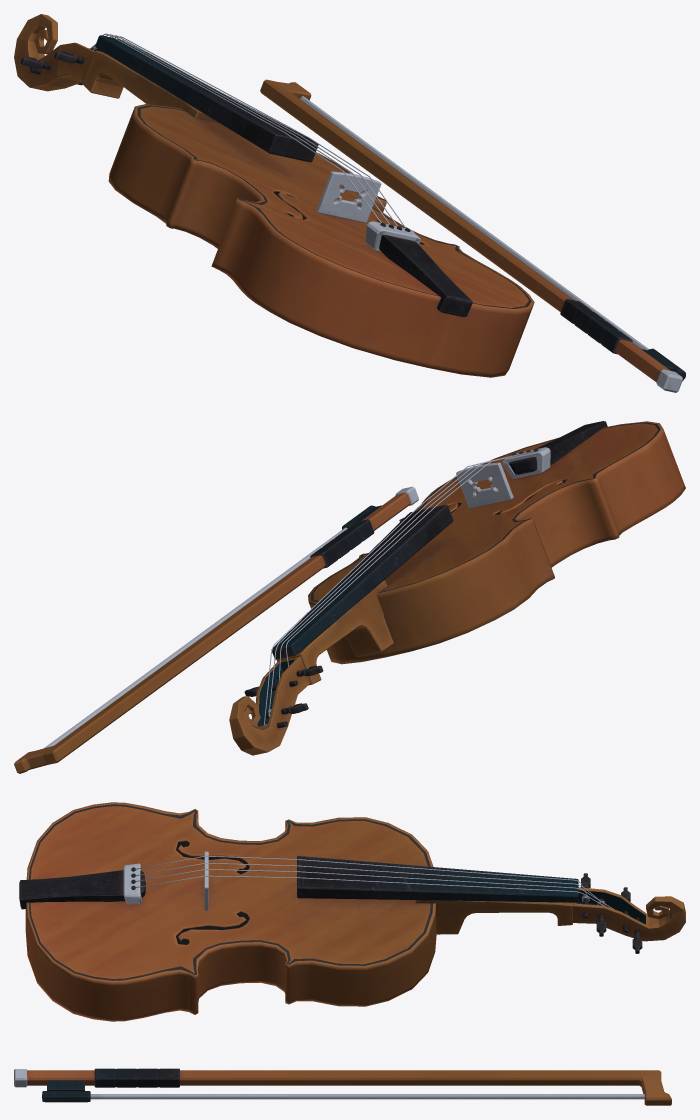
Rendered from Violin_Simple_-_Stylized.glb.
The picture shows the model from 3 angles, top to bottom: view 1: azimuth 30°, elevation 25°; view 2: azimuth 150°, elevation 25°; view 3: azimuth 270°, elevation 25°; orthographic projection. The views are drawn at different scales.
Visible parts, largest first — view 1: Violin_Vio1_0, Violin_Outfit_0, Violin Bow_Vio1_0, Violin_GP 2_0, Violin Bow_GP 2_0, Violin Bow_Outfit_0; view 2: Violin_Vio1_0, Violin_Outfit_0, Violin Bow_Vio1_0, Violin_GP 2_0, Violin Bow_GP 2_0, Violin Bow_Outfit_0; view 3: Violin_Vio1_0, Violin_Outfit_0, Violin Bow_Vio1_0, Violin_GP 2_0, Violin Bow_GP 2_0, Violin Bow_Outfit_0.
Part boxes in pixels (x1,y1,x2,y2): Violin_Vio1_0: (14,14,534,377); Violin_Outfit_0: (20,35,531,316); Violin Bow_Vio1_0: (260,79,670,382); Violin_GP 2_0: (90,33,420,251); Violin Bow_GP 2_0: (300,96,682,392); Violin Bow_Outfit_0: (560,299,685,381); Violin_Vio1_0: (229,421,685,755); Violin_Outfit_0: (244,421,660,728); Violin Bow_Vio1_0: (14,492,410,773); Violin_GP 2_0: (264,447,550,725); Violin Bow_GP 2_0: (43,486,418,748); Violin Bow_Outfit_0: (310,505,381,568); Violin_Vio1_0: (25,802,685,1021); Violin_Outfit_0: (19,804,645,980); Violin Bow_Vio1_0: (27,1070,671,1105); Violin_GP 2_0: (123,851,628,915); Violin Bow_GP 2_0: (14,1069,644,1099); Violin Bow_Outfit_0: (42,1068,179,1102).
Bounding box in the file's own units: 2.07 × 1.04 × 3.87.
3 materials, 3 textured.
